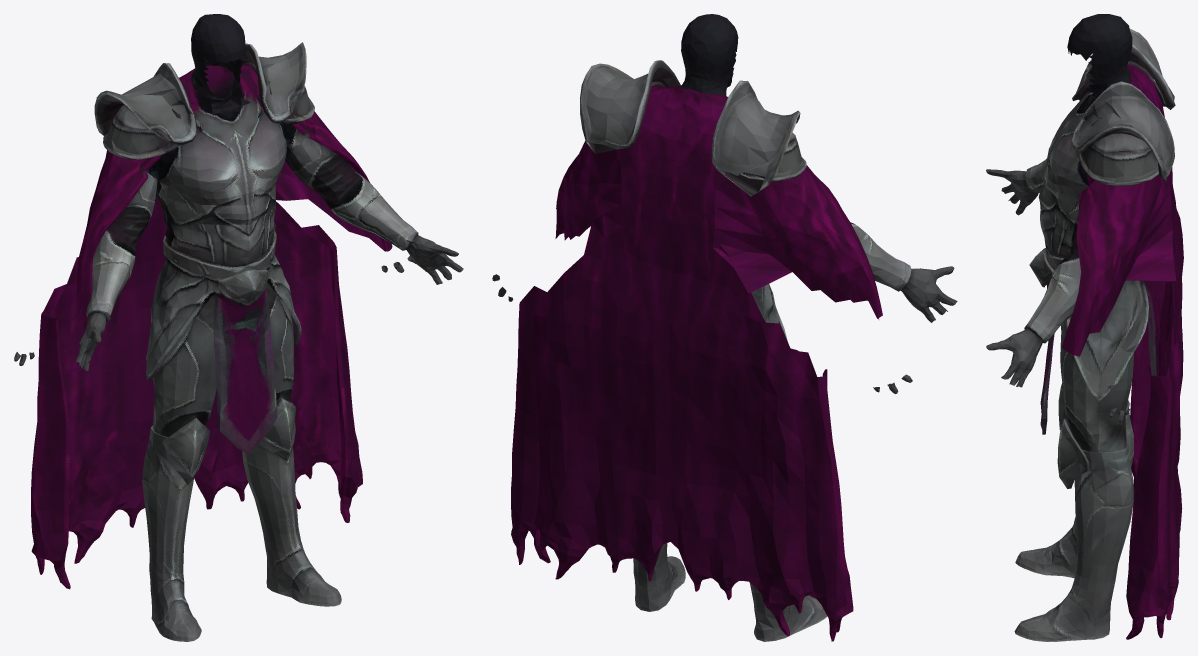
Rendered from ewm_t2overlord_outfit.glb.
The picture shows the model from 3 angles, left to right: view 1: azimuth 30°, elevation 25°; view 2: azimuth 150°, elevation 25°; view 3: azimuth 270°, elevation 25°; orthographic projection. The views are drawn at different scales.
Parts seen in each view (by area): view 1: ewm_t2overlord_outfit; view 2: ewm_t2overlord_outfit; view 3: ewm_t2overlord_outfit.
Boxes of the visible parts, box(x1,y1,x2,y2) form: ewm_t2overlord_outfit: box(14, 14, 463, 641); ewm_t2overlord_outfit: box(492, 14, 957, 641); ewm_t2overlord_outfit: box(986, 14, 1183, 641).
Bounding box in the file's own units: 1.37 × 1.88 × 0.5753.
Materials: 1 (1 with a texture image).
